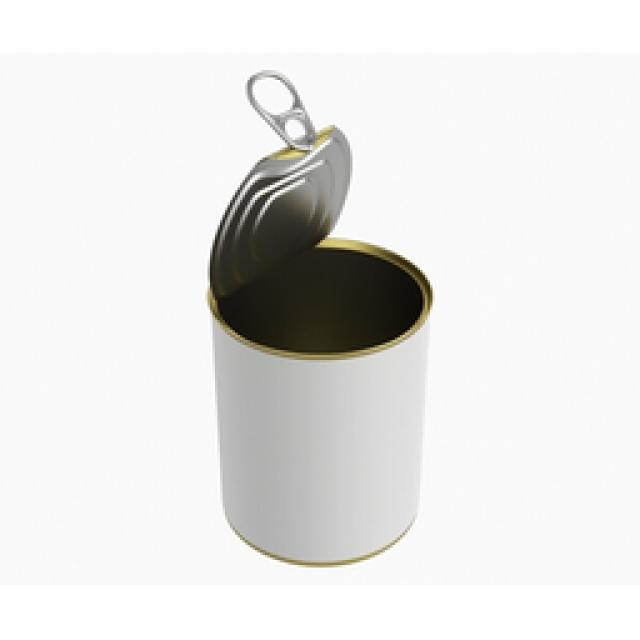alumunium: (208, 70, 430, 562)
